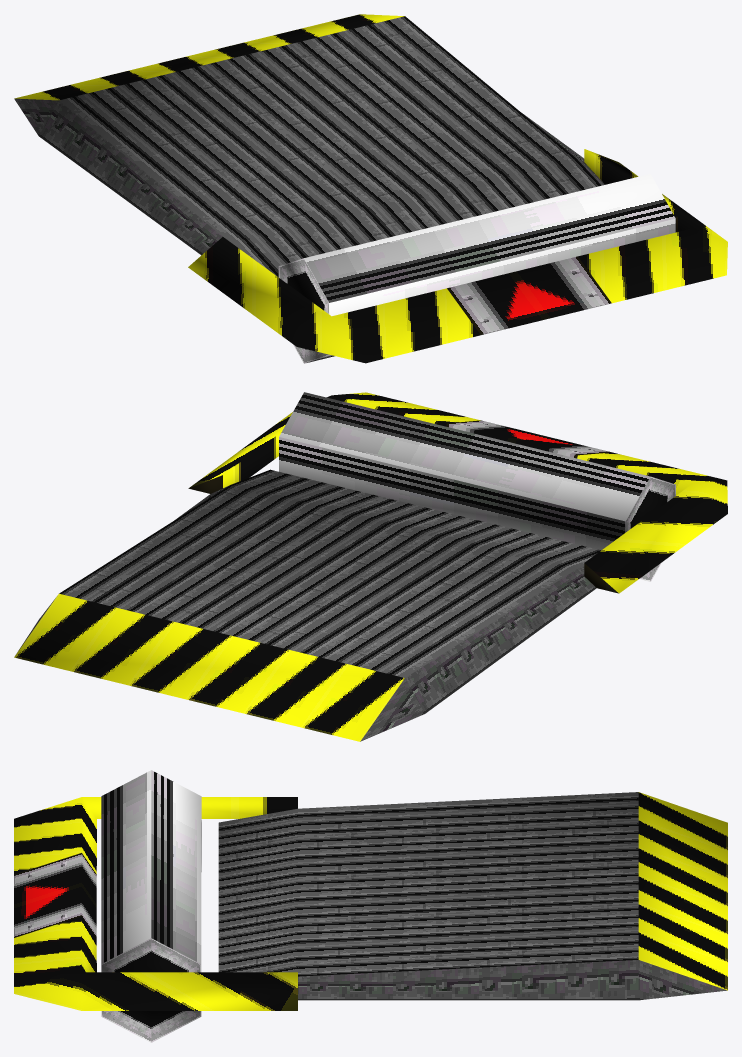
The model's file is pannel.glb.
3 renders of one model, top to bottom at view 1: azimuth 30°, elevation 25°; view 2: azimuth 150°, elevation 25°; view 3: azimuth 270°, elevation 25°, orthographic.
Parts seen in each view (by area): view 1: 5_0006-mesh-1.006-mat-3.002_0.1_16_16.011; view 2: 5_0006-mesh-1.006-mat-3.002_0.1_16_16.011; view 3: 5_0006-mesh-1.006-mat-3.002_0.1_16_16.011.
Part boxes in pixels (box(x1,y1,x2,y2)): 5_0006-mesh-1.006-mat-3.002_0.1_16_16.011: box(14, 14, 727, 363); 5_0006-mesh-1.006-mat-3.002_0.1_16_16.011: box(14, 392, 727, 741); 5_0006-mesh-1.006-mat-3.002_0.1_16_16.011: box(14, 770, 727, 1042).
Size of the model in its own units: 1.79 by 0.4184 by 2.58.
Materials: 6 (6 with a texture image).
